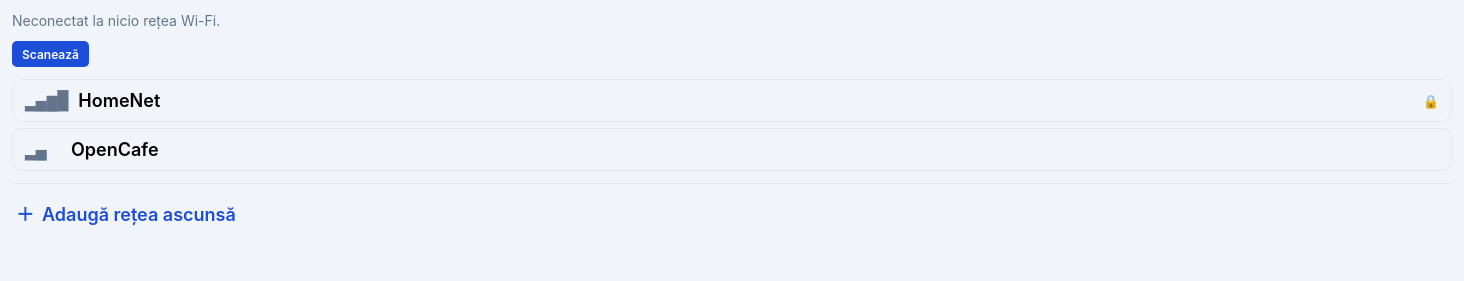
Test: WiFiManager.vue › toggles the password field for a secured network
# First item is the secured HomeNet.
Click the button with class "wifi-item" showing "▂▄▆█ HomeNet 🔒": (47, 100) [12,79,1452,122]
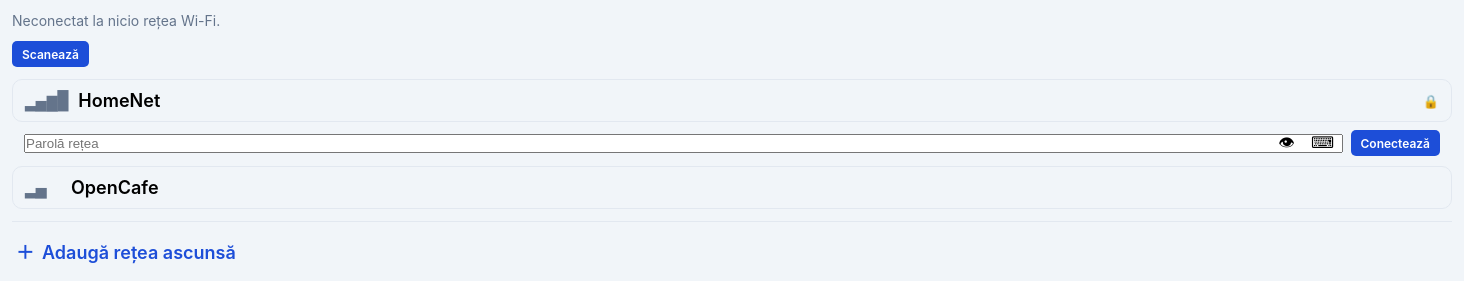
Now the password field with placeholder "Parolă rețea" is shown, box [24,134,1342,152]
